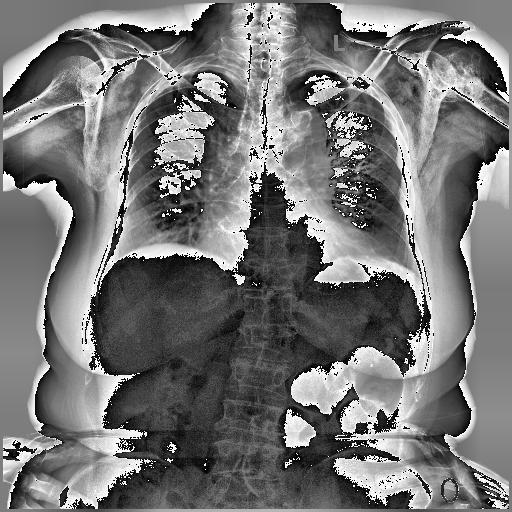0- Aortic enlargement: (262, 100, 328, 174), (275, 101, 329, 173), (276, 101, 326, 166)
11- Pleural thickening: (284, 61, 370, 90), (171, 64, 240, 82)
3- Cardiomegaly: (202, 222, 390, 276), (190, 223, 384, 273), (196, 224, 378, 270)
